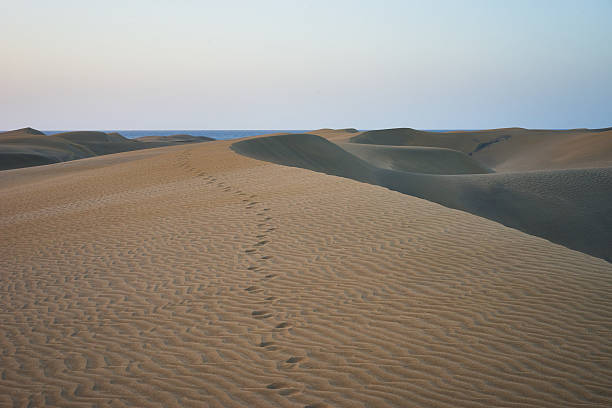human_footprint: (243, 197, 277, 293), (266, 381, 299, 395), (251, 310, 272, 318)
